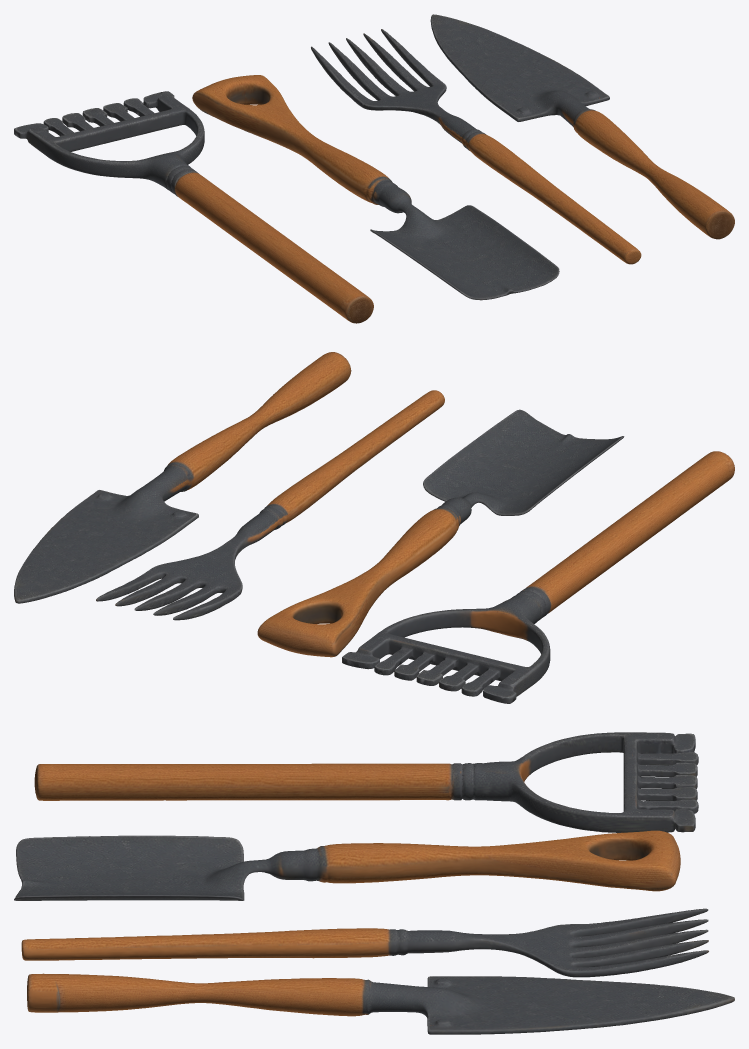
Rendered from prop06.glb.
3 renders of one model, top to bottom at view 1: azimuth 30°, elevation 25°; view 2: azimuth 150°, elevation 25°; view 3: azimuth 270°, elevation 25°, orthographic. The views are drawn at different scales.
Visible parts, largest first — view 1: mesh_node; view 2: mesh_node; view 3: mesh_node.
Boxes of the visible parts, left/top/right/bottom form: mesh_node: left=14, top=14, right=734, bottom=323; mesh_node: left=14, top=352, right=734, bottom=703; mesh_node: left=14, top=732, right=734, bottom=1034.
Size of the model in its own units: 1.8 by 0.1075 by 1.9.
Materials: 1 (1 with a texture image).
